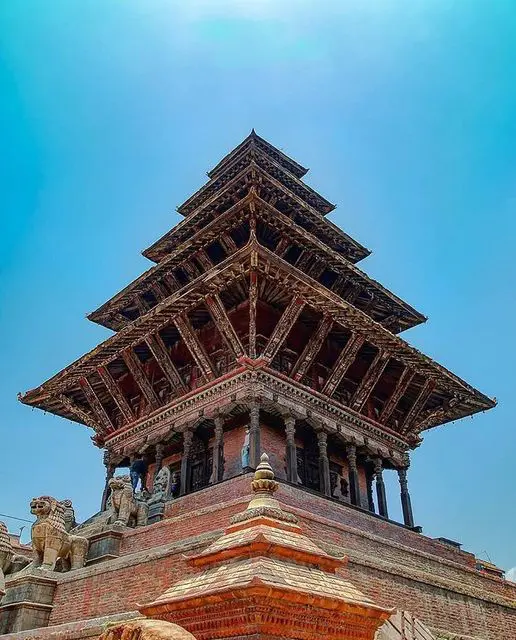nyathapola: (6, 76, 514, 639)
